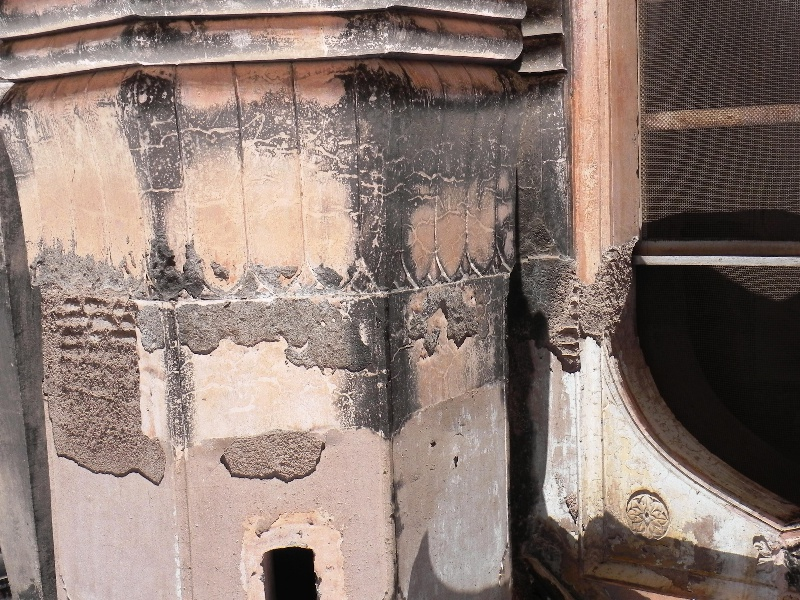Exposed Bricks: (41, 297, 143, 353), (557, 290, 581, 370)
Spalling: (37, 362, 180, 490), (188, 296, 392, 378), (584, 224, 646, 370), (209, 427, 338, 488)
